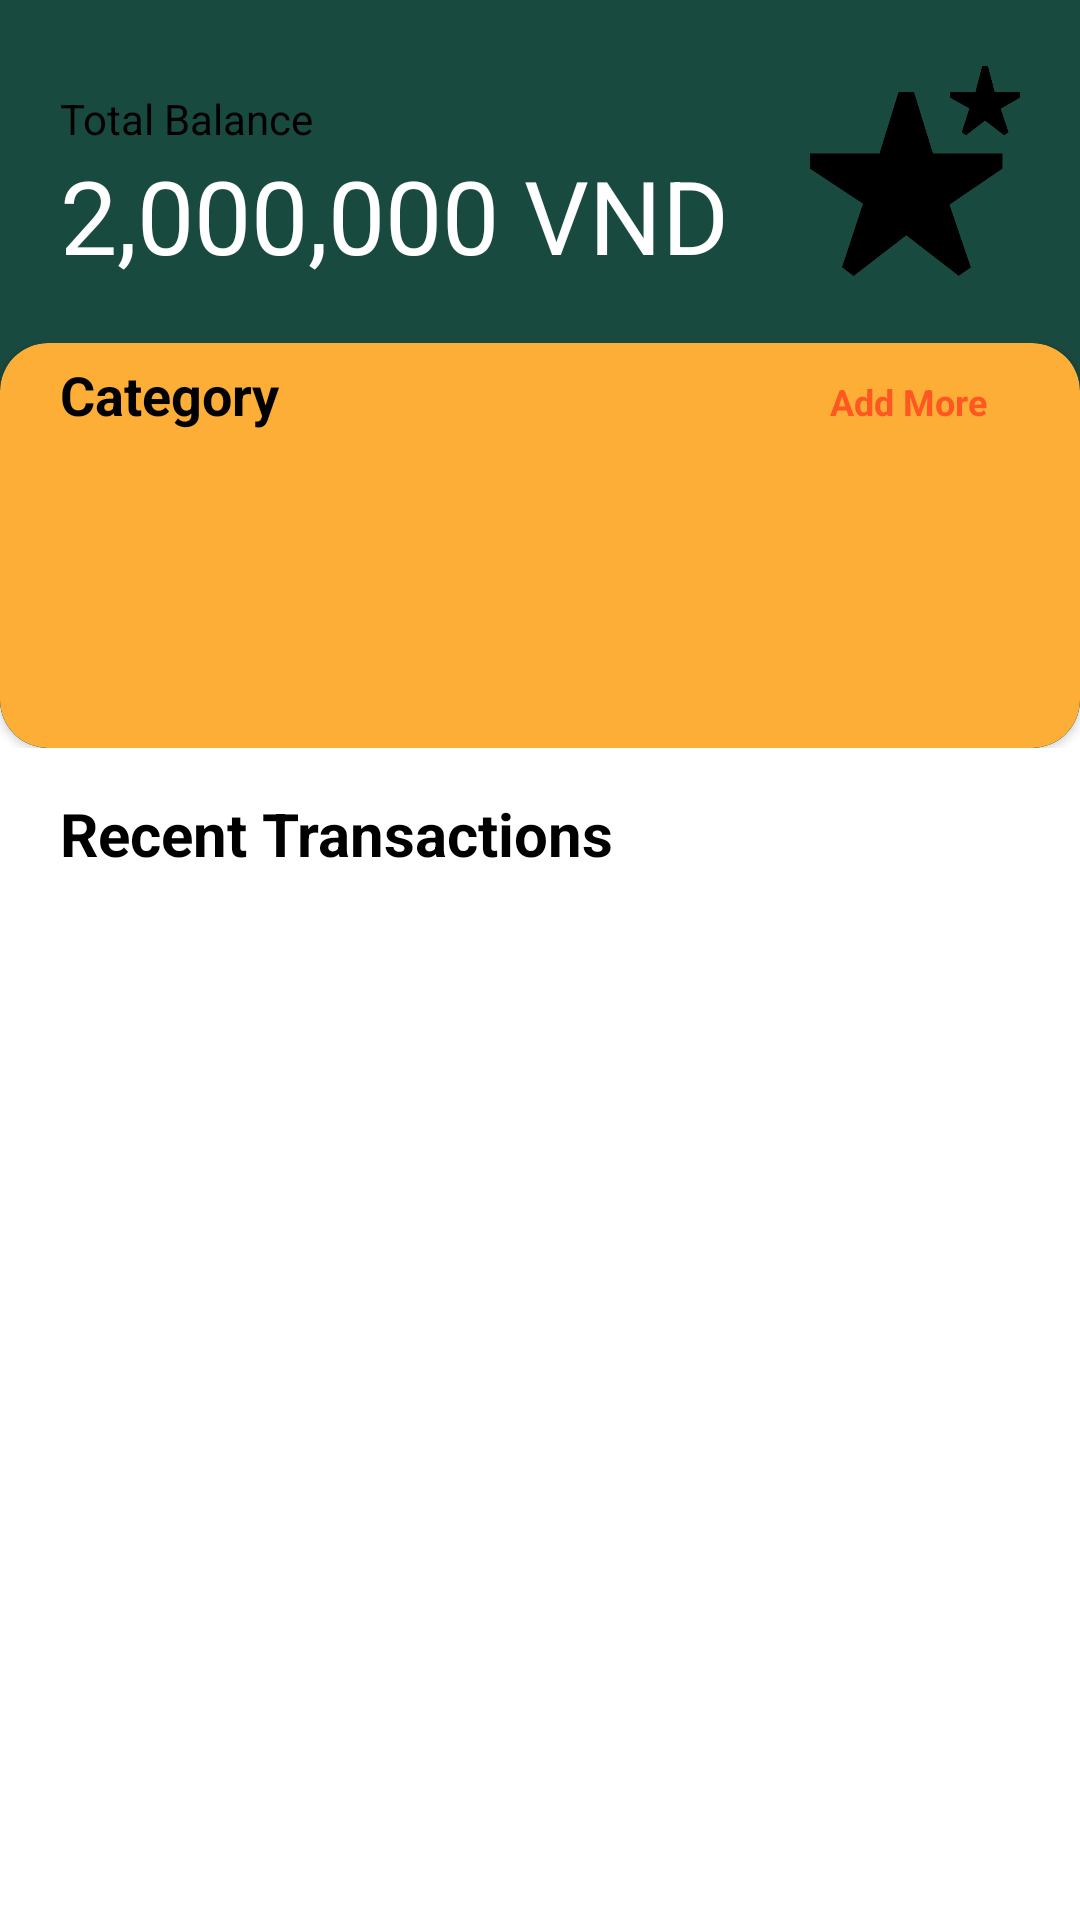

Named icons in this screenshot (1080px×1920px) and their bounding boxes, (x1, y1, x2, y2):
star: (810, 66, 1020, 276)
